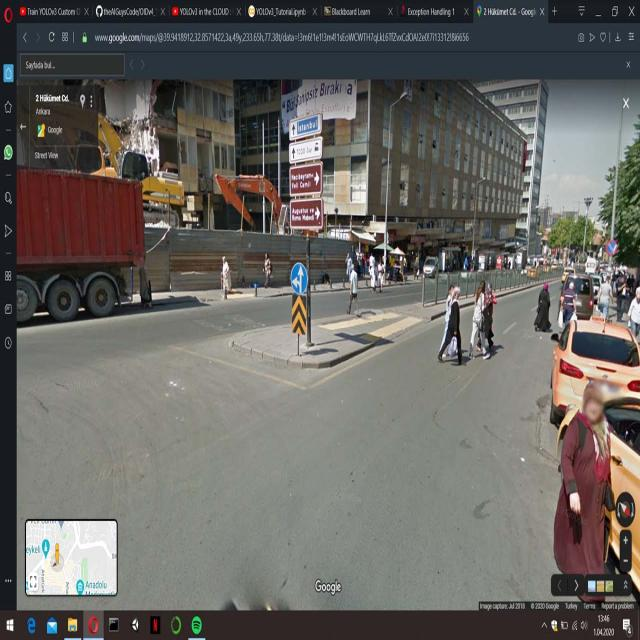ilerisol: (289, 262, 309, 294)
parkyasak: (605, 237, 616, 255)
